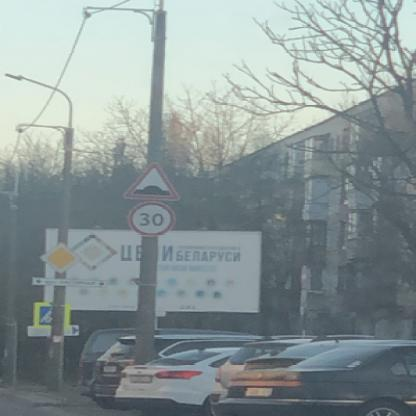crosswalk: (36, 304, 50, 324)
speedlimit: (126, 201, 171, 234)
